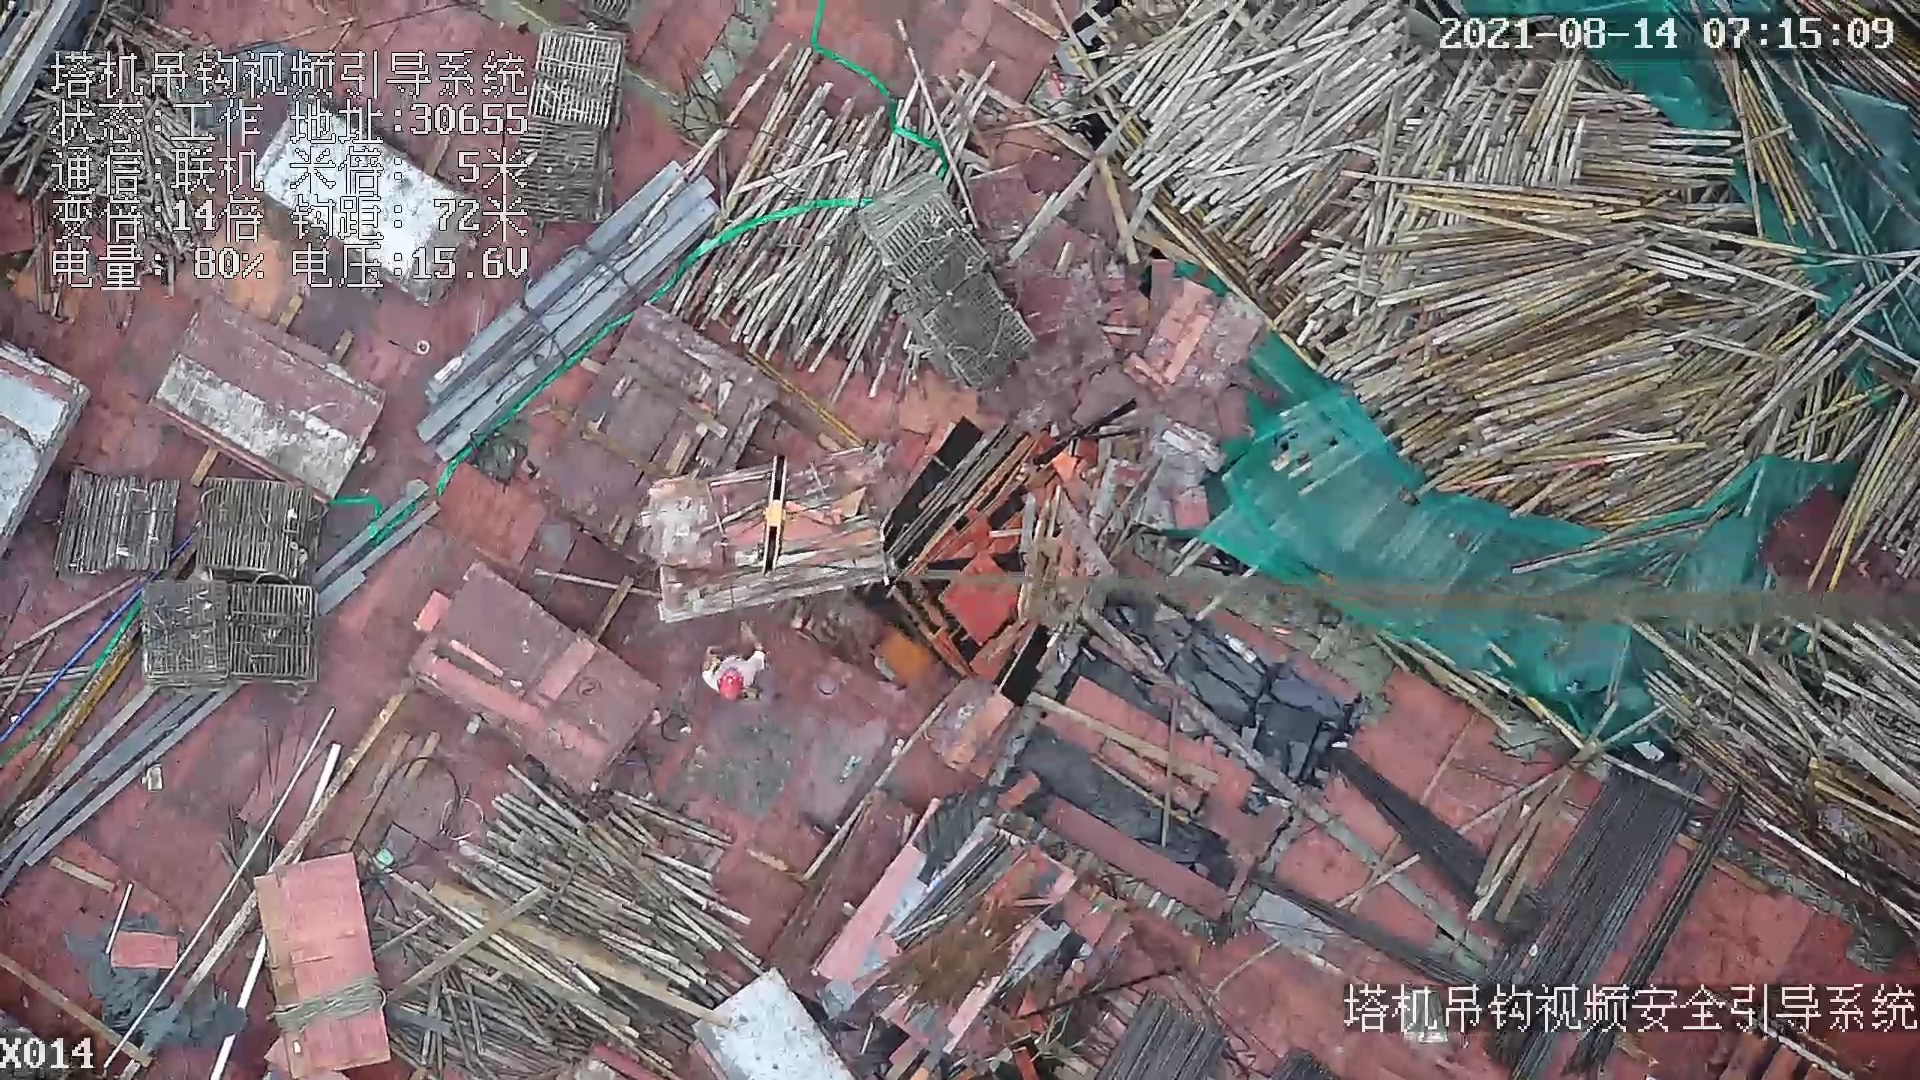helmet: (712, 668, 741, 701)
hook: (756, 449, 791, 583)
person: (692, 623, 776, 704)
